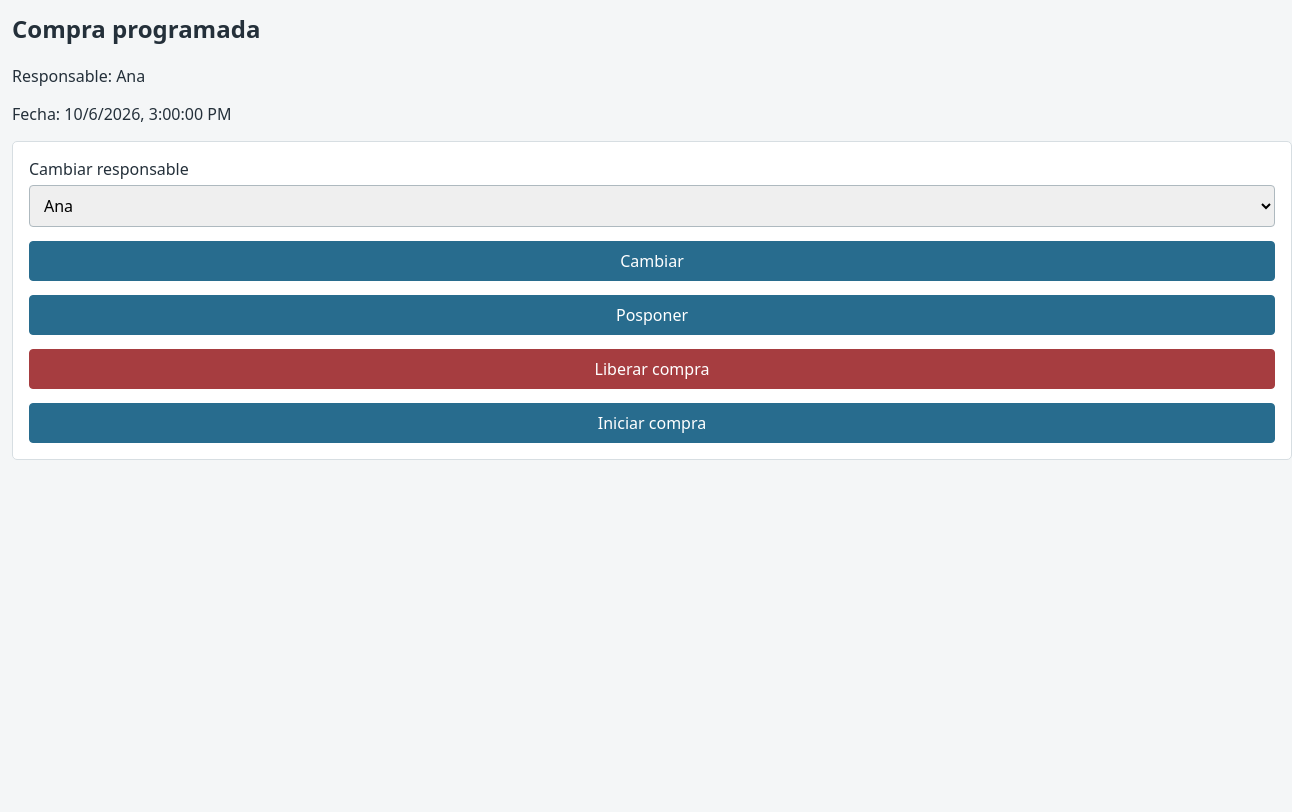
Scenario: PurchasePage › la postergación valida la fecha y sólo cierra tras éxito (resultado: expired)
Click the button "Posponer" at x=652, y=315, box [29,295,1275,335]
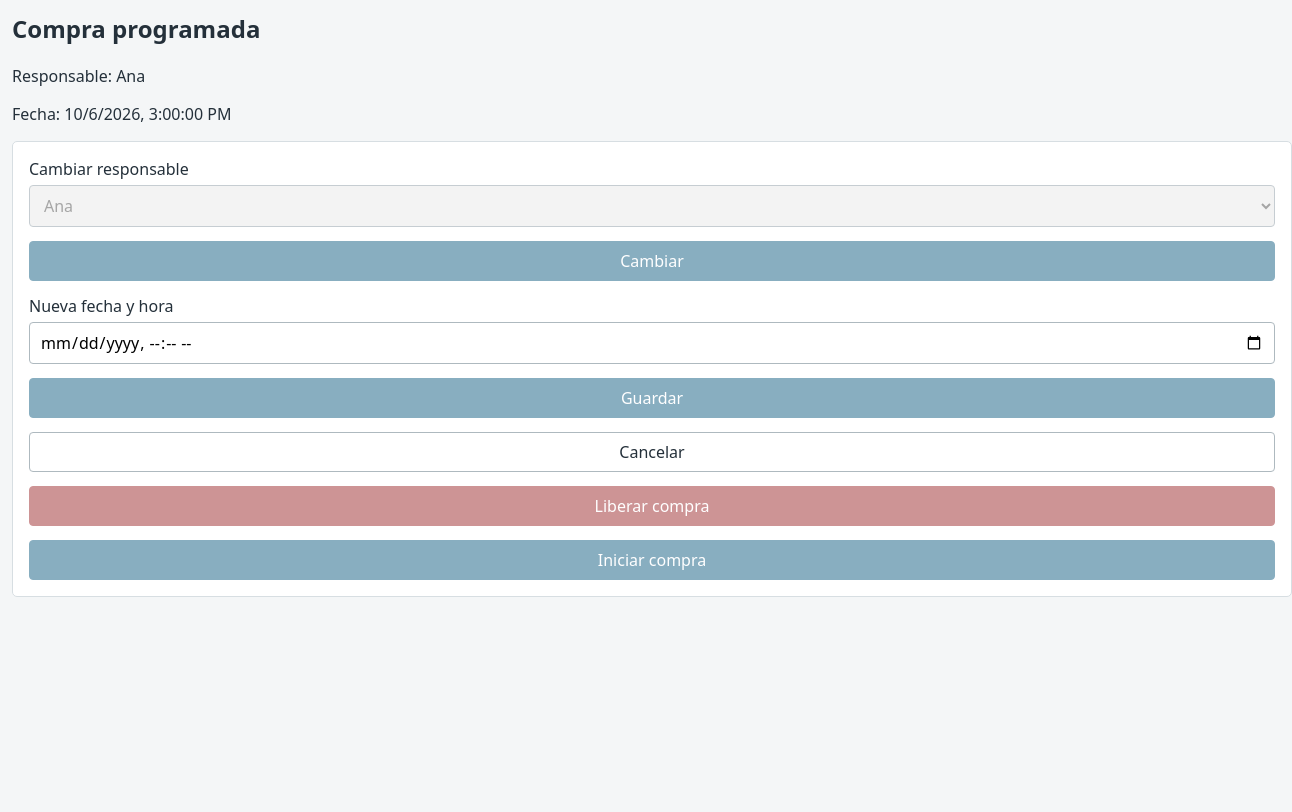
Result: the button "Guardar" is disabled at [29,378,1275,418]
Type "2026-10-06T15:05" into the field labelled "Nueva fecha y hora" at x=652, y=343, box [29,322,1275,364]
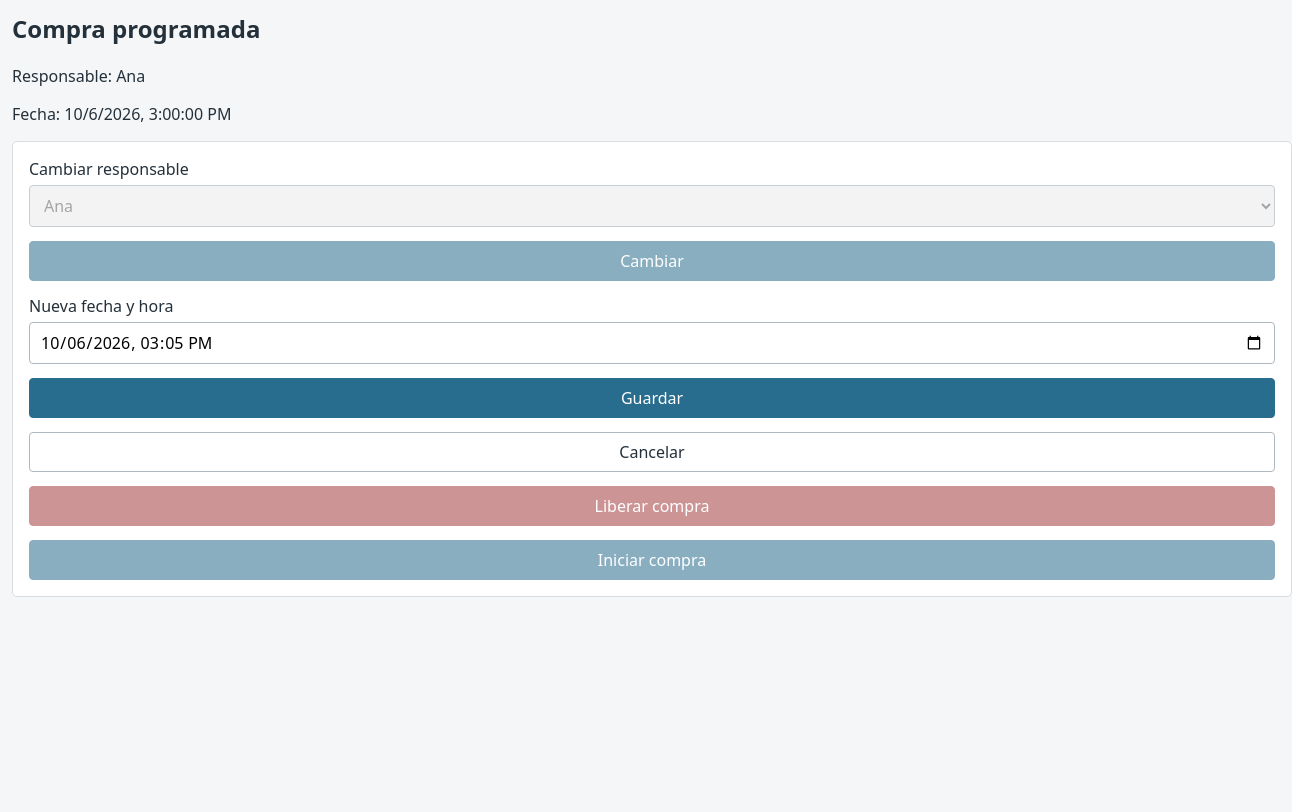
Click the button "Guardar" at x=652, y=398, box [29,378,1275,418]
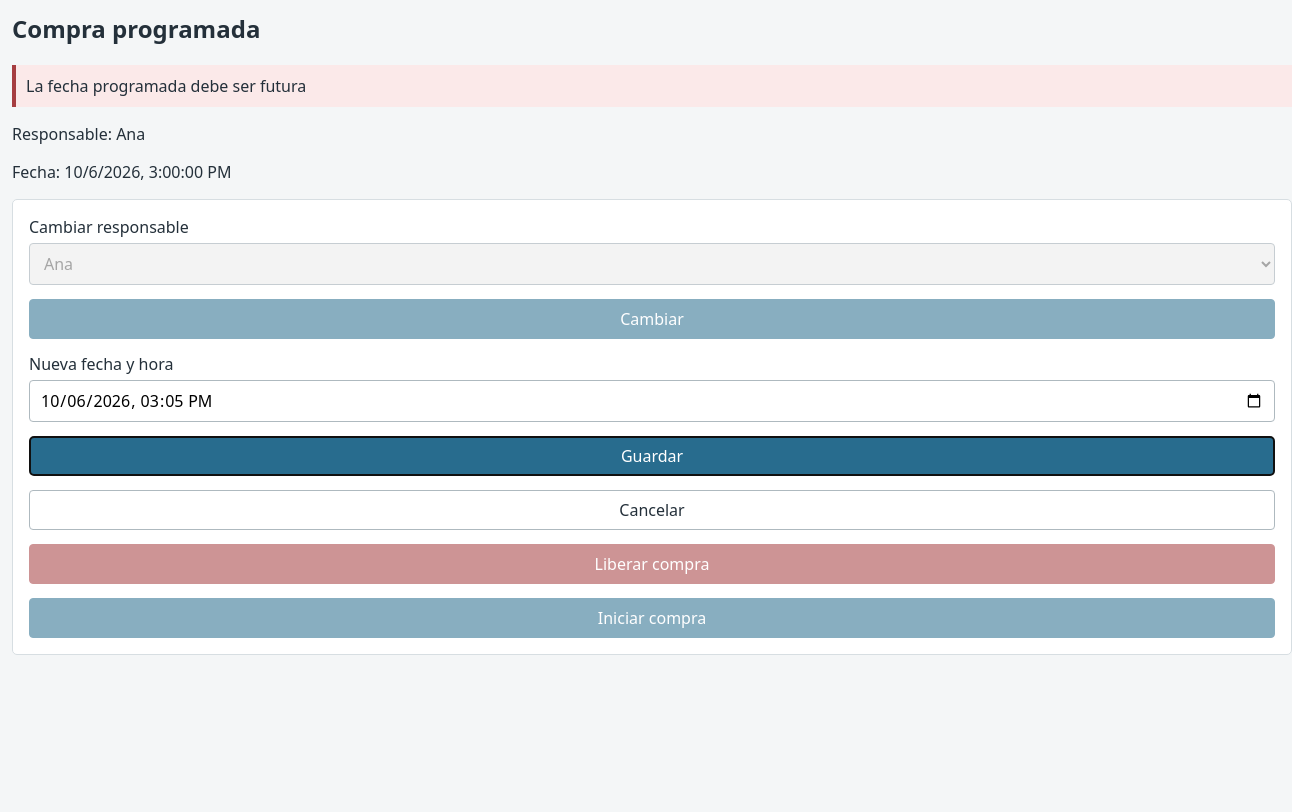
Result: the button "Guardar" is shown at [29,436,1275,476]
Result: the text "La fecha programada debe ser futura" is shown at [12,65,1291,107]
